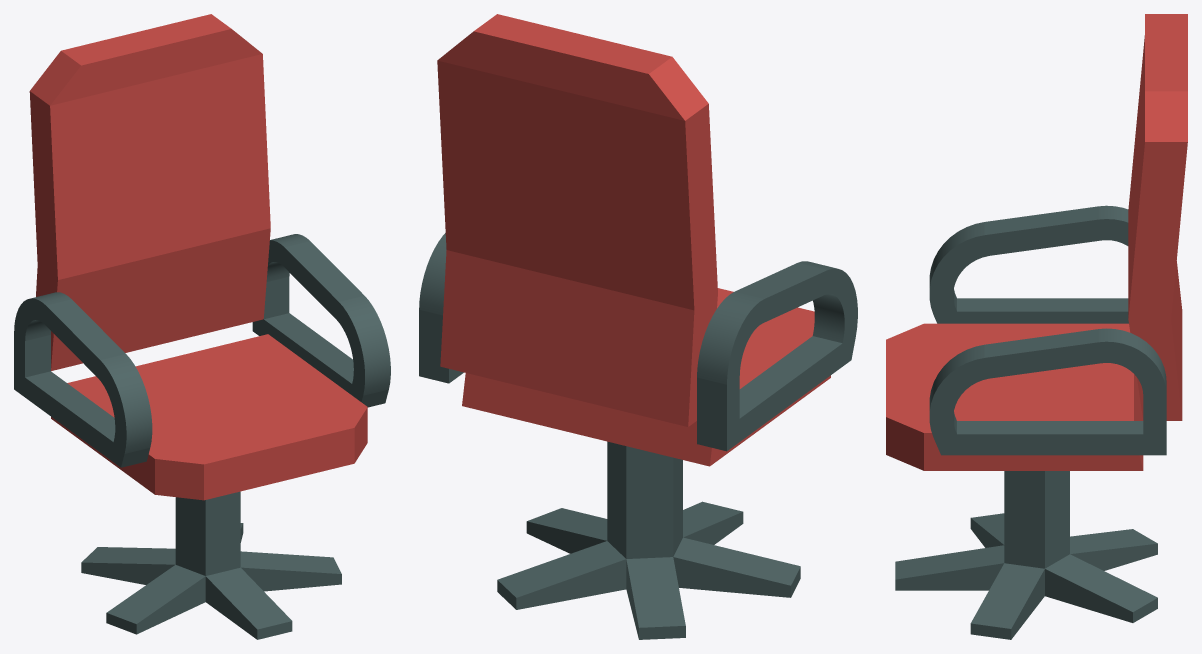
File: furn_chairDesk.glb
The picture shows the model from 3 angles, left to right: view 1: azimuth 30°, elevation 25°; view 2: azimuth 150°, elevation 25°; view 3: azimuth 270°, elevation 25°; orthographic projection. The views are drawn at different scales.
Visible parts, largest first — view 1: chair, chairDesk(Clone); view 2: chair, chairDesk(Clone); view 3: chair, chairDesk(Clone).
Boxes of the visible parts, x1,y1,x2,y2 form: chair: (14,14,390,500); chairDesk(Clone): (81,491,341,639); chair: (419,14,857,466); chairDesk(Clone): (497,441,800,639); chair: (886,14,1187,470); chairDesk(Clone): (895,471,1157,639).
Size of the model in its own units: 0.335 by 0.6076 by 0.3143.
